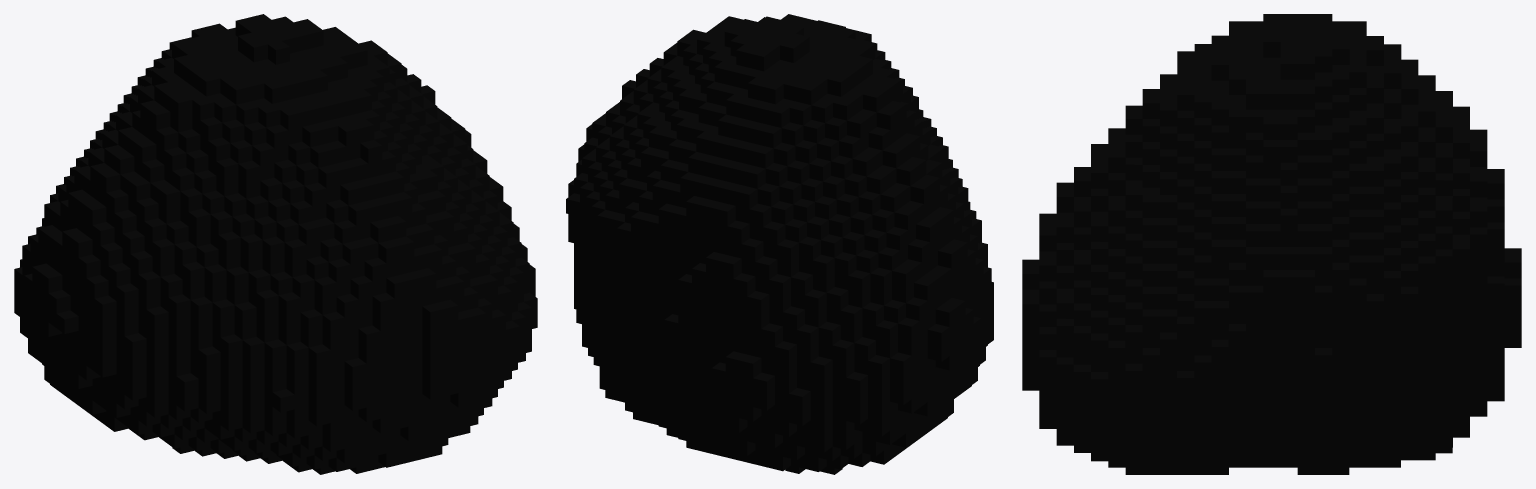
File: rock.fbx
3 renders of one model, left to right at view 1: azimuth 30°, elevation 25°; view 2: azimuth 150°, elevation 25°; view 3: azimuth 270°, elevation 25°, orthographic. The views are drawn at different scales.
Parts seen in each view (by area): view 1: stone; view 2: stone; view 3: stone.
Boxes of the visible parts, box(x1,y1,x2,y2) form: stone: box(14, 14, 537, 474); stone: box(566, 14, 993, 474); stone: box(1022, 14, 1521, 474).
Size of the model in its own units: 1.18 by 1.02 by 1.18.
1 material, 1 textured.
